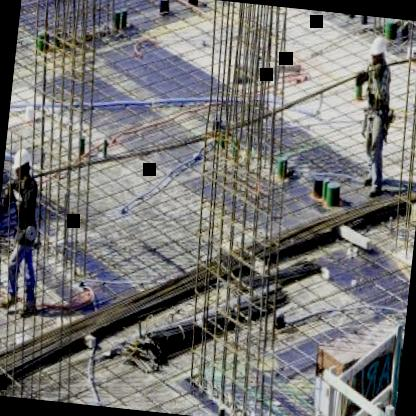helmet: (10, 147, 35, 188), (368, 34, 388, 64)
